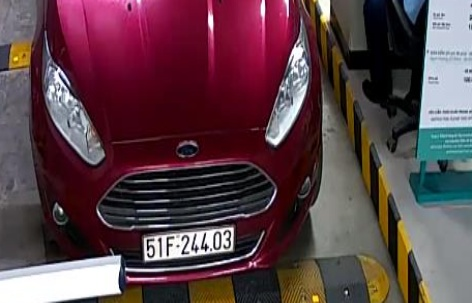plate: (138, 227, 237, 263)
